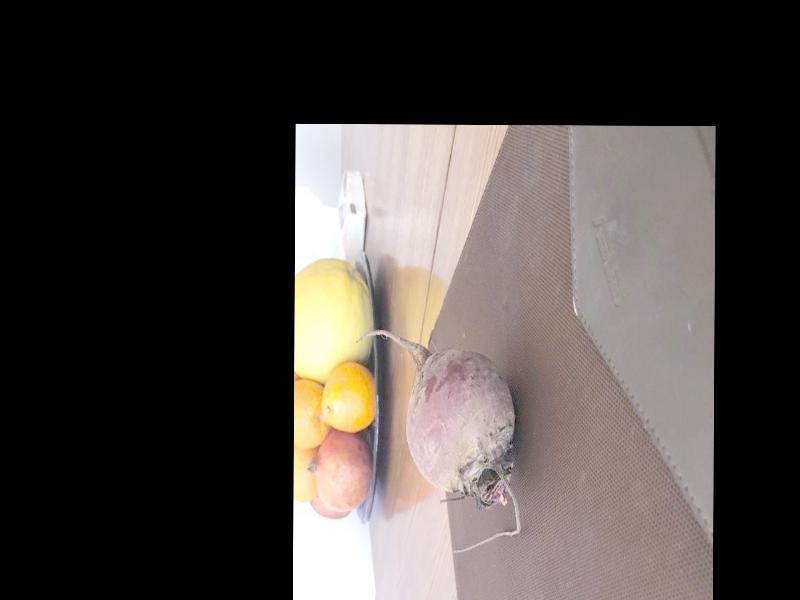Beet: (353, 328, 521, 554)
